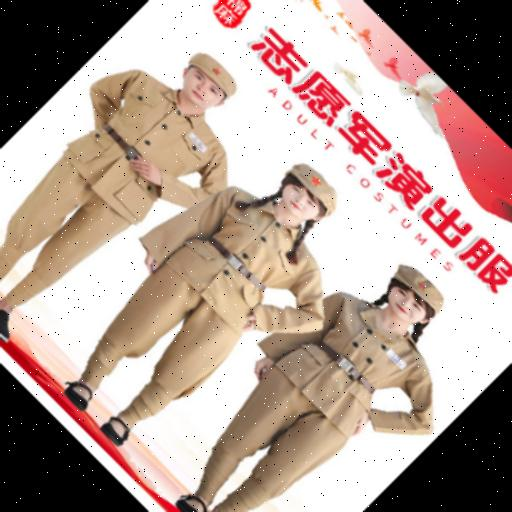north army: (75, 35, 235, 447), (181, 123, 331, 425), (292, 233, 442, 500)
